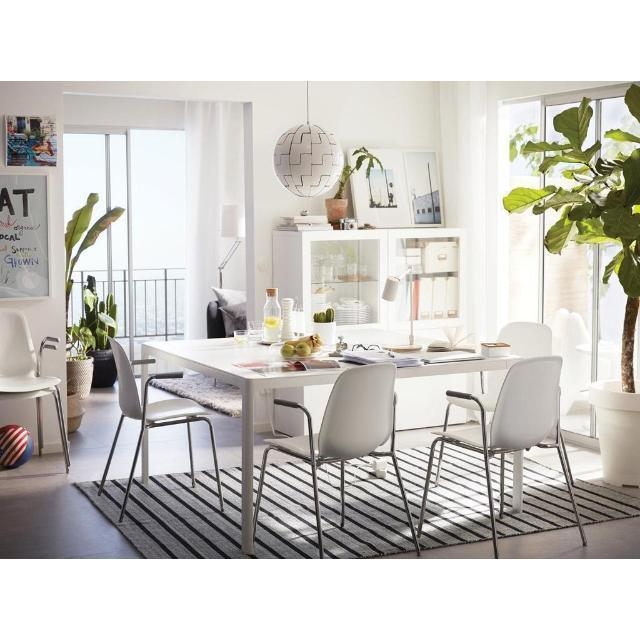chair: (418, 356, 586, 558), (254, 364, 420, 558), (98, 338, 224, 522), (0, 308, 70, 472)
curtain: (439, 81, 498, 340)
light: (272, 82, 344, 197)
plant: (504, 98, 640, 486), (325, 147, 384, 224), (80, 276, 118, 387), (66, 318, 95, 398)
rug: (119, 467, 242, 558), (319, 457, 414, 558), (420, 446, 490, 549), (255, 461, 319, 558), (499, 459, 576, 537), (574, 481, 640, 523), (396, 447, 429, 523), (76, 478, 128, 522)
shelf: (272, 227, 465, 333)
table: (141, 338, 341, 555)
wall-art: (0, 174, 50, 299), (350, 150, 411, 227), (404, 151, 442, 225), (5, 115, 59, 167)
